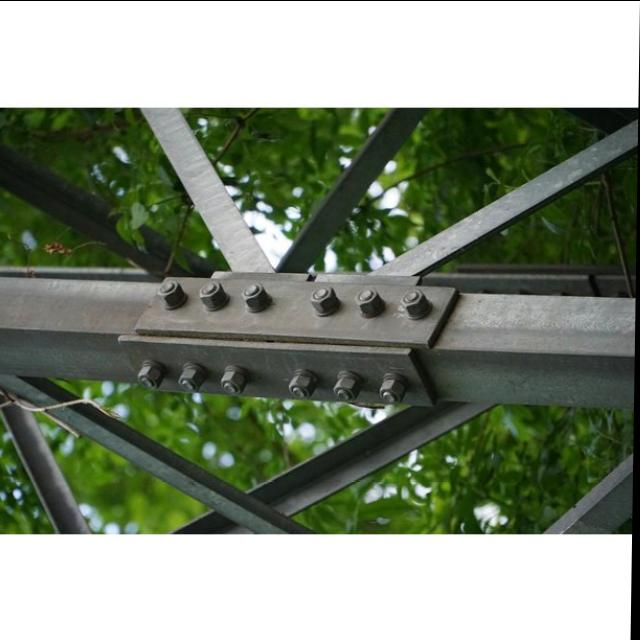Regular bolt: (401, 290, 430, 318), (200, 282, 228, 308), (381, 379, 408, 405), (159, 282, 185, 308), (356, 289, 383, 314), (313, 287, 337, 315), (242, 284, 269, 308), (335, 377, 361, 401), (139, 366, 164, 390), (181, 368, 206, 392), (223, 372, 248, 395), (291, 376, 317, 398)
